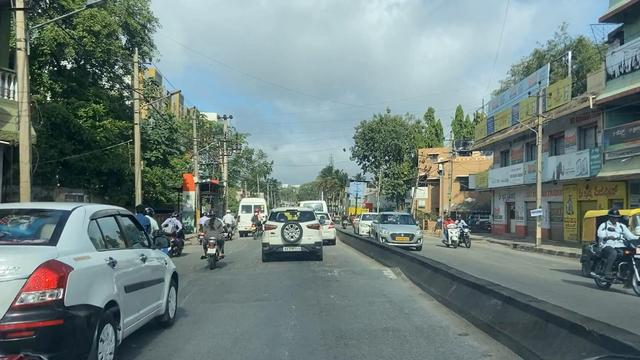LMV: (2, 203, 178, 354), (263, 207, 322, 261), (203, 211, 224, 268), (250, 210, 262, 240)
RoadDamages: (181, 286, 203, 308)
SpeedBump: (176, 262, 410, 281)
